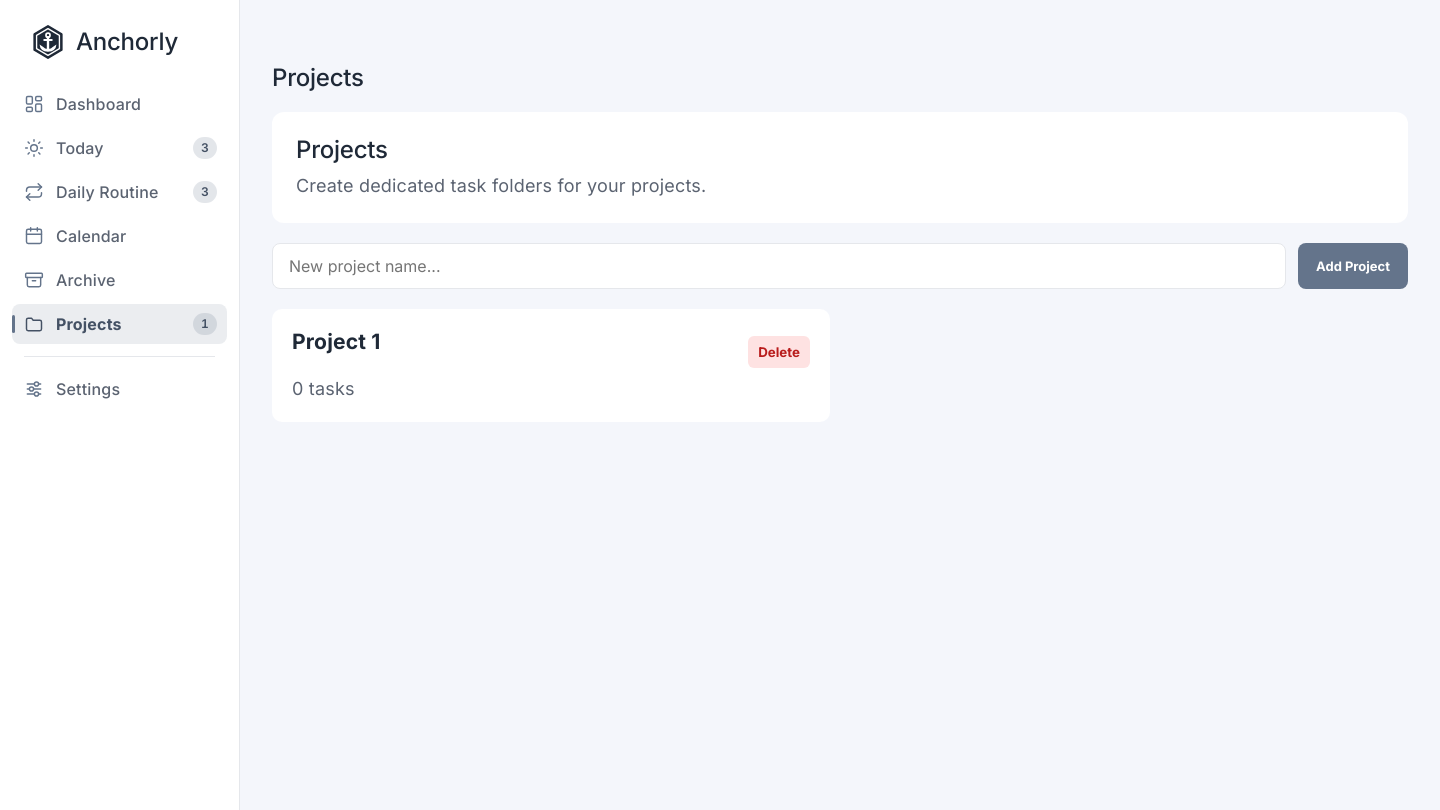
App routing › opens a project from its card
The image size is (1440, 810).
Click the heading "Project 1".
click(336, 342)  # box [292, 329, 381, 355]
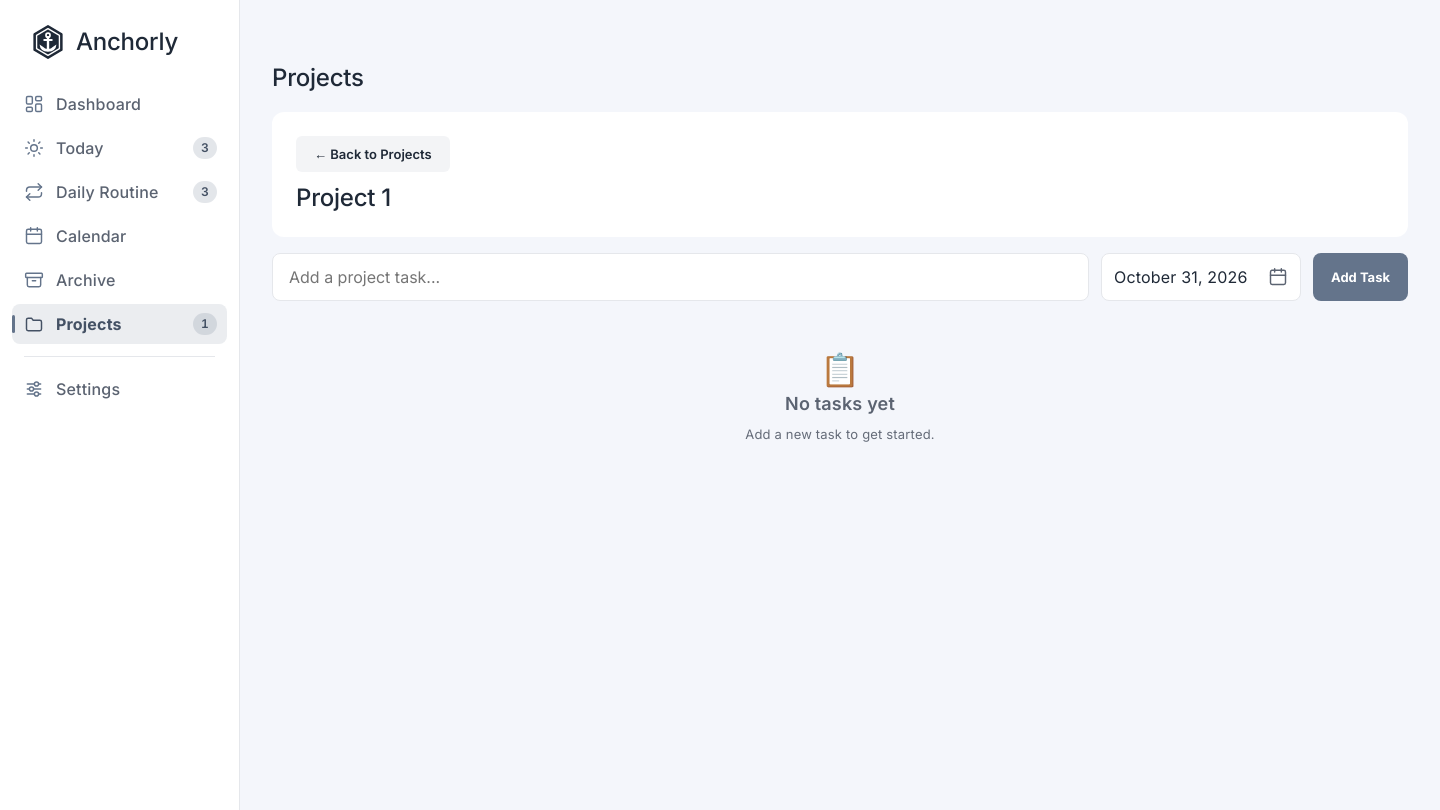
Expected: the heading "Project 1" is shown, [296, 183, 391, 212]
